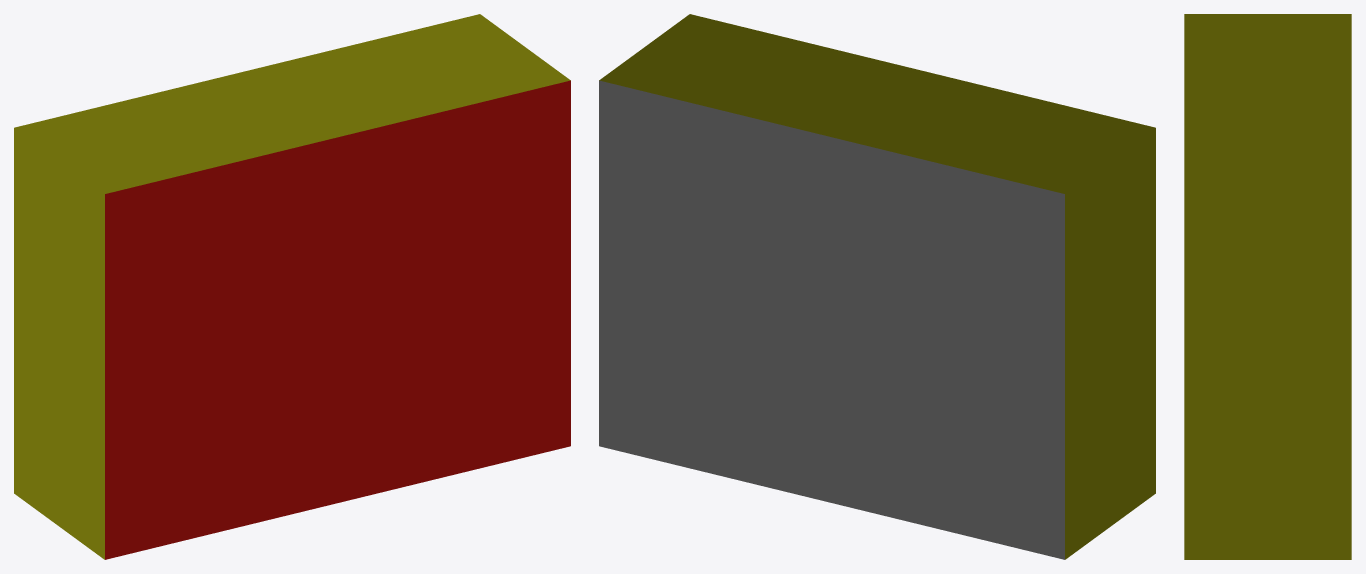
File: idf.obj
3 views of the same model, side by side, from view 1: azimuth 30°, elevation 25°; view 2: azimuth 150°, elevation 25°; view 3: azimuth 270°, elevation 25° (orthographic). The views are drawn at different scales.
Size of the model in its own units: 8 by 6 by 2.7.
